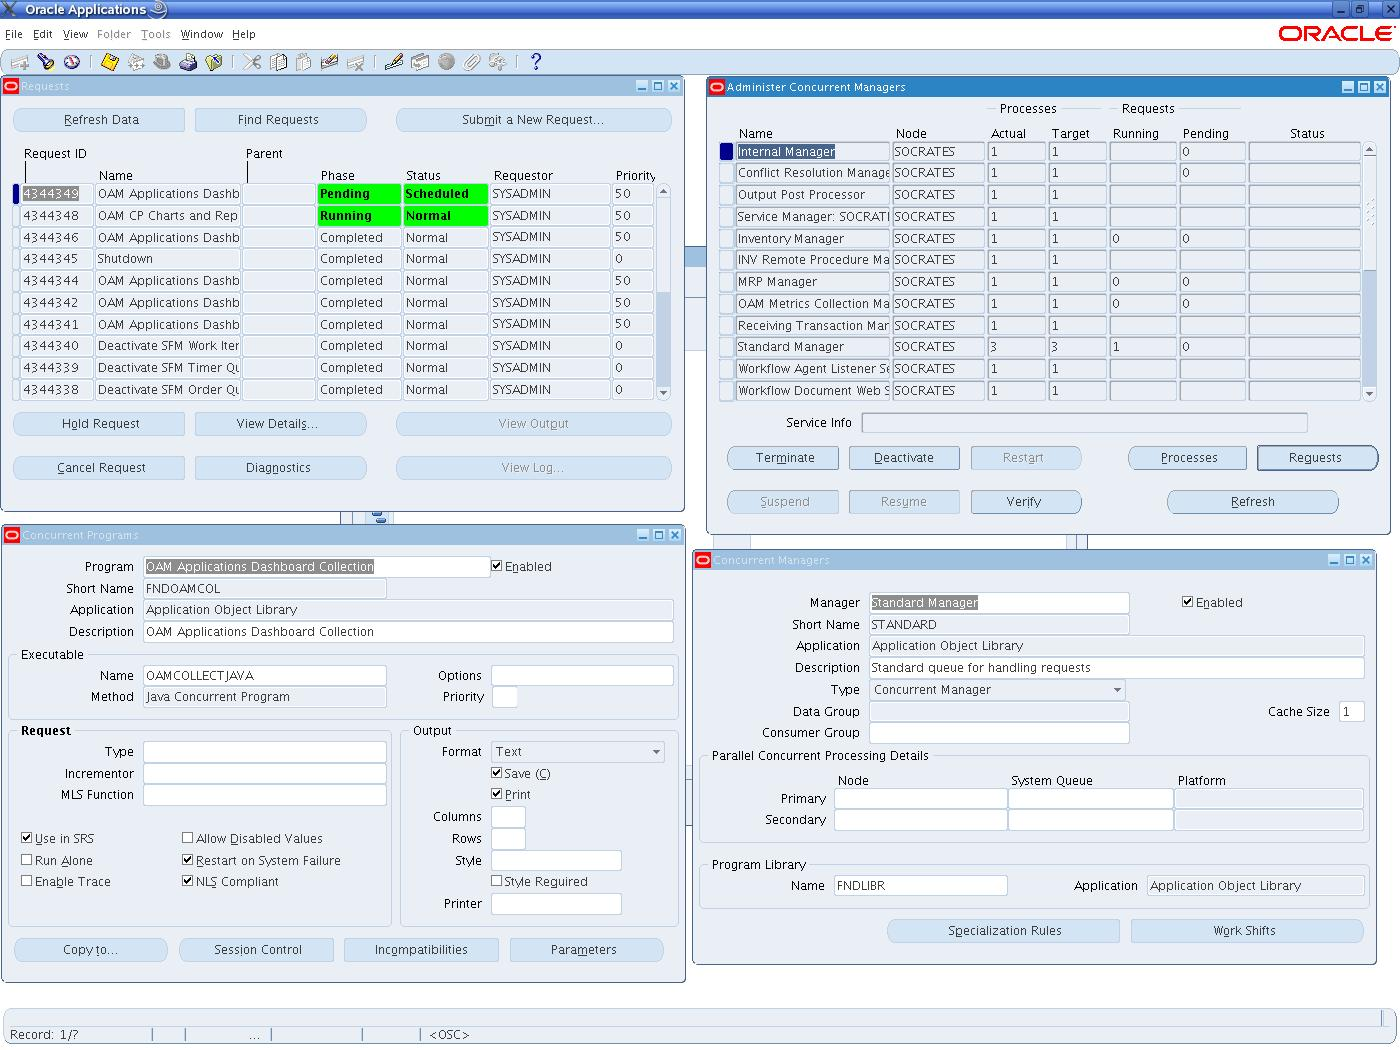BUTTON: (395, 453, 675, 482), (394, 106, 674, 133), (394, 410, 674, 438), (1129, 917, 1366, 945), (886, 917, 1122, 945), (10, 105, 187, 133), (193, 105, 369, 133), (193, 453, 369, 482), (1166, 488, 1340, 516), (10, 409, 187, 437), (11, 454, 187, 482), (193, 409, 368, 437), (13, 935, 169, 963), (342, 936, 500, 963), (177, 936, 335, 963), (509, 936, 665, 963), (1256, 441, 1380, 472), (1127, 442, 1250, 472), (969, 443, 1083, 473), (725, 488, 841, 516), (847, 488, 962, 516), (969, 488, 1084, 516), (848, 444, 962, 472), (725, 444, 838, 472)
CHECKBOX_CHECKED: (1180, 593, 1194, 609), (489, 764, 503, 780), (19, 831, 33, 844), (181, 851, 194, 866), (181, 872, 194, 887), (489, 785, 503, 800), (491, 558, 503, 572)
CHECKBOX_UNCHECKED: (20, 874, 34, 888), (489, 874, 503, 888), (20, 851, 33, 866), (181, 831, 194, 844)
COLUMN: (733, 122, 892, 400), (96, 144, 243, 398), (1250, 121, 1364, 398), (489, 149, 609, 401), (891, 124, 986, 397), (316, 144, 403, 401), (403, 148, 491, 401), (1178, 116, 1251, 401), (1108, 118, 1180, 404), (243, 144, 317, 399), (986, 124, 1053, 400), (23, 147, 96, 400), (1047, 124, 1113, 401), (609, 148, 655, 399)
COMBOBOX: (866, 675, 1126, 701), (489, 739, 666, 764)
DROPDOWN_HANDLE: (642, 738, 667, 763), (1103, 677, 1128, 701)
HEADER_ROW: (24, 147, 654, 181), (734, 121, 1365, 143)
IMAGEBUTTON: (341, 49, 370, 74), (32, 49, 60, 74), (96, 49, 123, 74), (148, 49, 174, 74), (174, 49, 201, 74), (201, 49, 227, 74), (407, 50, 434, 74), (8, 49, 32, 74), (60, 49, 85, 73), (290, 50, 315, 74), (459, 50, 484, 74), (123, 49, 148, 73), (239, 50, 263, 74), (316, 50, 341, 74), (383, 50, 407, 74), (485, 50, 510, 73), (266, 50, 289, 74), (434, 50, 459, 73), (526, 50, 547, 74), (1332, 1, 1350, 17), (1351, 1, 1368, 17), (1382, 1, 1399, 17), (668, 528, 682, 542), (1327, 553, 1342, 566), (1360, 554, 1374, 567), (1340, 81, 1355, 93), (1345, 553, 1357, 567), (1358, 81, 1371, 93), (637, 529, 650, 542), (636, 79, 648, 92), (653, 81, 665, 93), (1374, 81, 1386, 93), (653, 529, 665, 542), (669, 81, 681, 92)
ROW: (21, 290, 650, 313), (20, 314, 649, 337), (19, 334, 648, 357), (21, 355, 650, 378), (20, 376, 649, 399), (22, 267, 651, 290), (21, 245, 650, 268), (21, 225, 650, 248), (23, 181, 651, 204), (23, 203, 651, 226), (739, 141, 1363, 163), (739, 250, 1363, 272), (735, 291, 1358, 313), (734, 314, 1357, 336), (736, 337, 1359, 360), (735, 358, 1358, 381), (735, 376, 1358, 398), (736, 227, 1359, 249), (736, 205, 1359, 227), (737, 184, 1360, 206), (737, 162, 1360, 184), (736, 270, 1359, 292)
SCROLLBAR_VERTICAL: (1363, 141, 1378, 403), (656, 183, 674, 401)
SCROLLBAR_VERTICAL_BAR: (655, 291, 674, 385), (1363, 156, 1376, 271)
SCROLLBAR_VERTICAL_HANDLE_DOWN: (657, 385, 674, 401), (1363, 387, 1377, 404)
SCROLLBAR_VERTICAL_HANDLE_UP: (654, 182, 674, 197), (1361, 141, 1376, 157)
TABLE: (737, 122, 1359, 401), (24, 150, 654, 404)
TEXTBOX: (142, 618, 676, 643), (869, 633, 1366, 657), (140, 597, 676, 619), (868, 655, 1367, 678), (861, 410, 1310, 433), (141, 554, 492, 579), (142, 738, 389, 764), (868, 699, 1131, 724), (141, 782, 385, 807), (868, 721, 1132, 744), (868, 590, 1131, 613), (141, 577, 389, 601), (142, 663, 388, 687), (868, 613, 1131, 635), (142, 686, 388, 709), (141, 762, 388, 784), (1173, 784, 1365, 810), (832, 872, 1010, 897), (491, 663, 676, 686), (1173, 808, 1365, 831), (832, 808, 1009, 831), (1008, 785, 1174, 808), (833, 786, 1008, 808), (1006, 808, 1174, 831), (489, 890, 624, 917), (489, 848, 623, 871), (489, 803, 527, 829), (489, 827, 528, 850), (492, 684, 519, 709), (1339, 700, 1366, 724)
